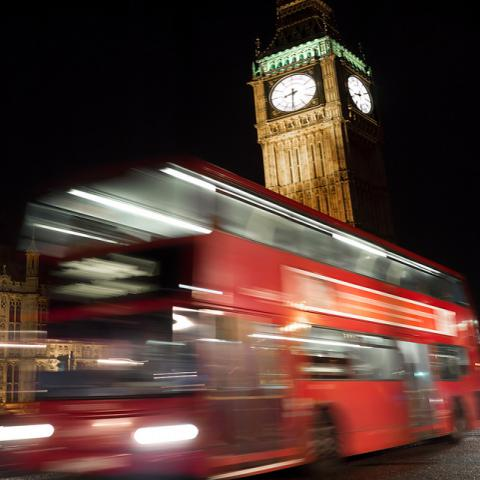bus: (1, 159, 479, 479)
